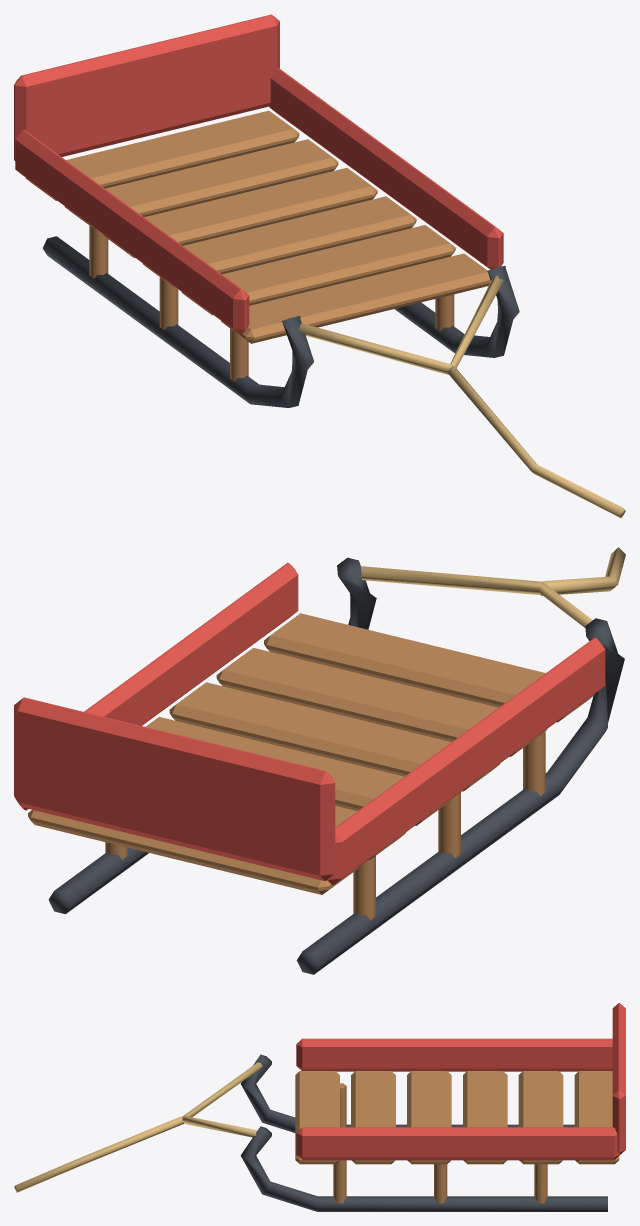
File: pico-treno.glb
3 views of the same model, one above another, from view 1: azimuth 30°, elevation 25°; view 2: azimuth 150°, elevation 25°; view 3: azimuth 270°, elevation 25° (orthographic). The views are drawn at different scales.
Parts seen in each view (by area): view 1: treno; view 2: treno; view 3: treno.
Boxes of the visible parts, x1,y1,x2,y2 form: treno: (14,14,625,518); treno: (14,547,625,974); treno: (14,1003,625,1211).
Bounding box in the file's own units: 1 × 0.6303 × 2.74.
